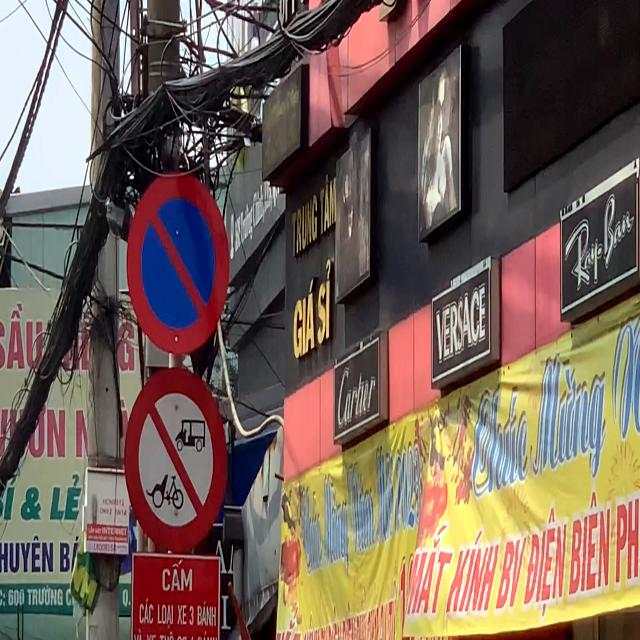P.131a: (126, 171, 231, 356)
